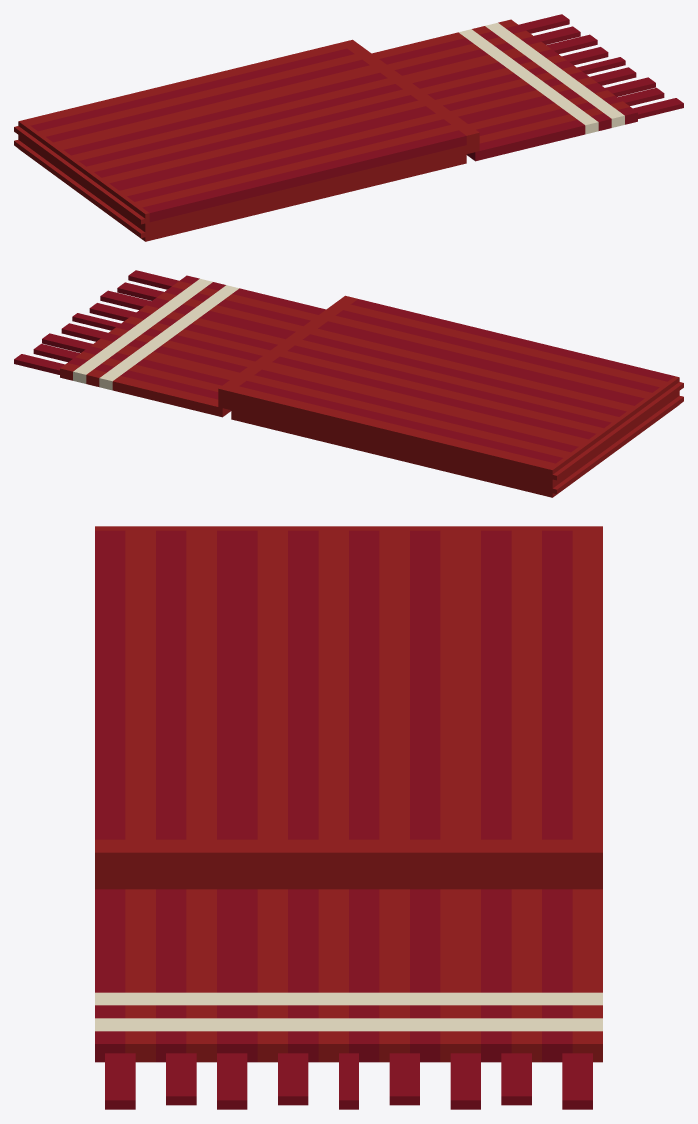
Rendered from scarf.glb.
3 renders of one model, top to bottom at view 1: azimuth 30°, elevation 25°; view 2: azimuth 150°, elevation 25°; view 3: azimuth 270°, elevation 25°, orthographic. The views are drawn at different scales.
Visible parts, largest first — view 1: scarf:compound; view 2: scarf:compound; view 3: scarf:compound.
Part boxes in pixels (x1,y1,x2,y2): scarf:compound: (14, 14, 683, 241); scarf:compound: (14, 270, 683, 497); scarf:compound: (95, 526, 602, 1109).
Bounding box in the file's own units: 0.496 × 0.024 × 0.2.
